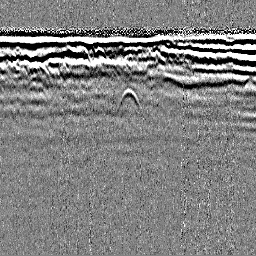cavity: (116, 85, 142, 113)
